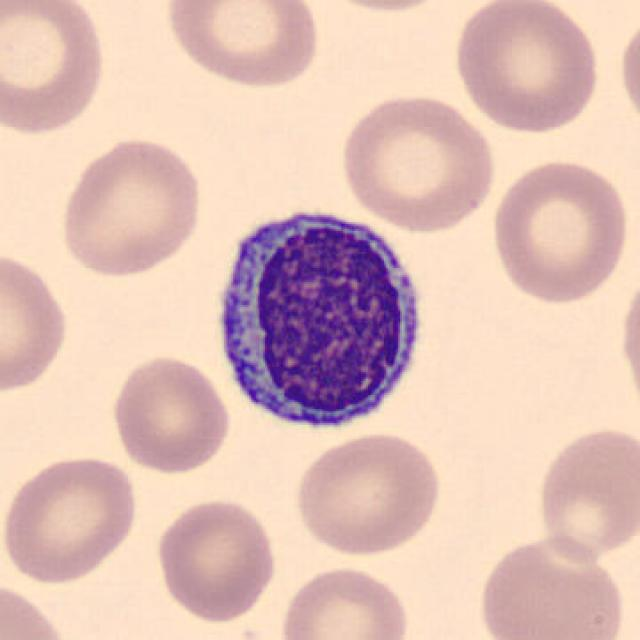Lymphocyte: (202, 194, 436, 442)
RBC: (336, 88, 500, 235), (55, 134, 208, 280), (487, 155, 633, 307), (448, 0, 604, 136), (290, 428, 444, 559), (0, 451, 142, 587), (151, 494, 281, 626), (473, 532, 627, 640), (107, 351, 233, 476), (532, 421, 638, 566), (0, 0, 110, 139), (160, 0, 325, 92), (0, 245, 73, 397), (278, 562, 414, 640), (0, 576, 74, 640), (615, 257, 640, 409), (615, 9, 640, 136)
